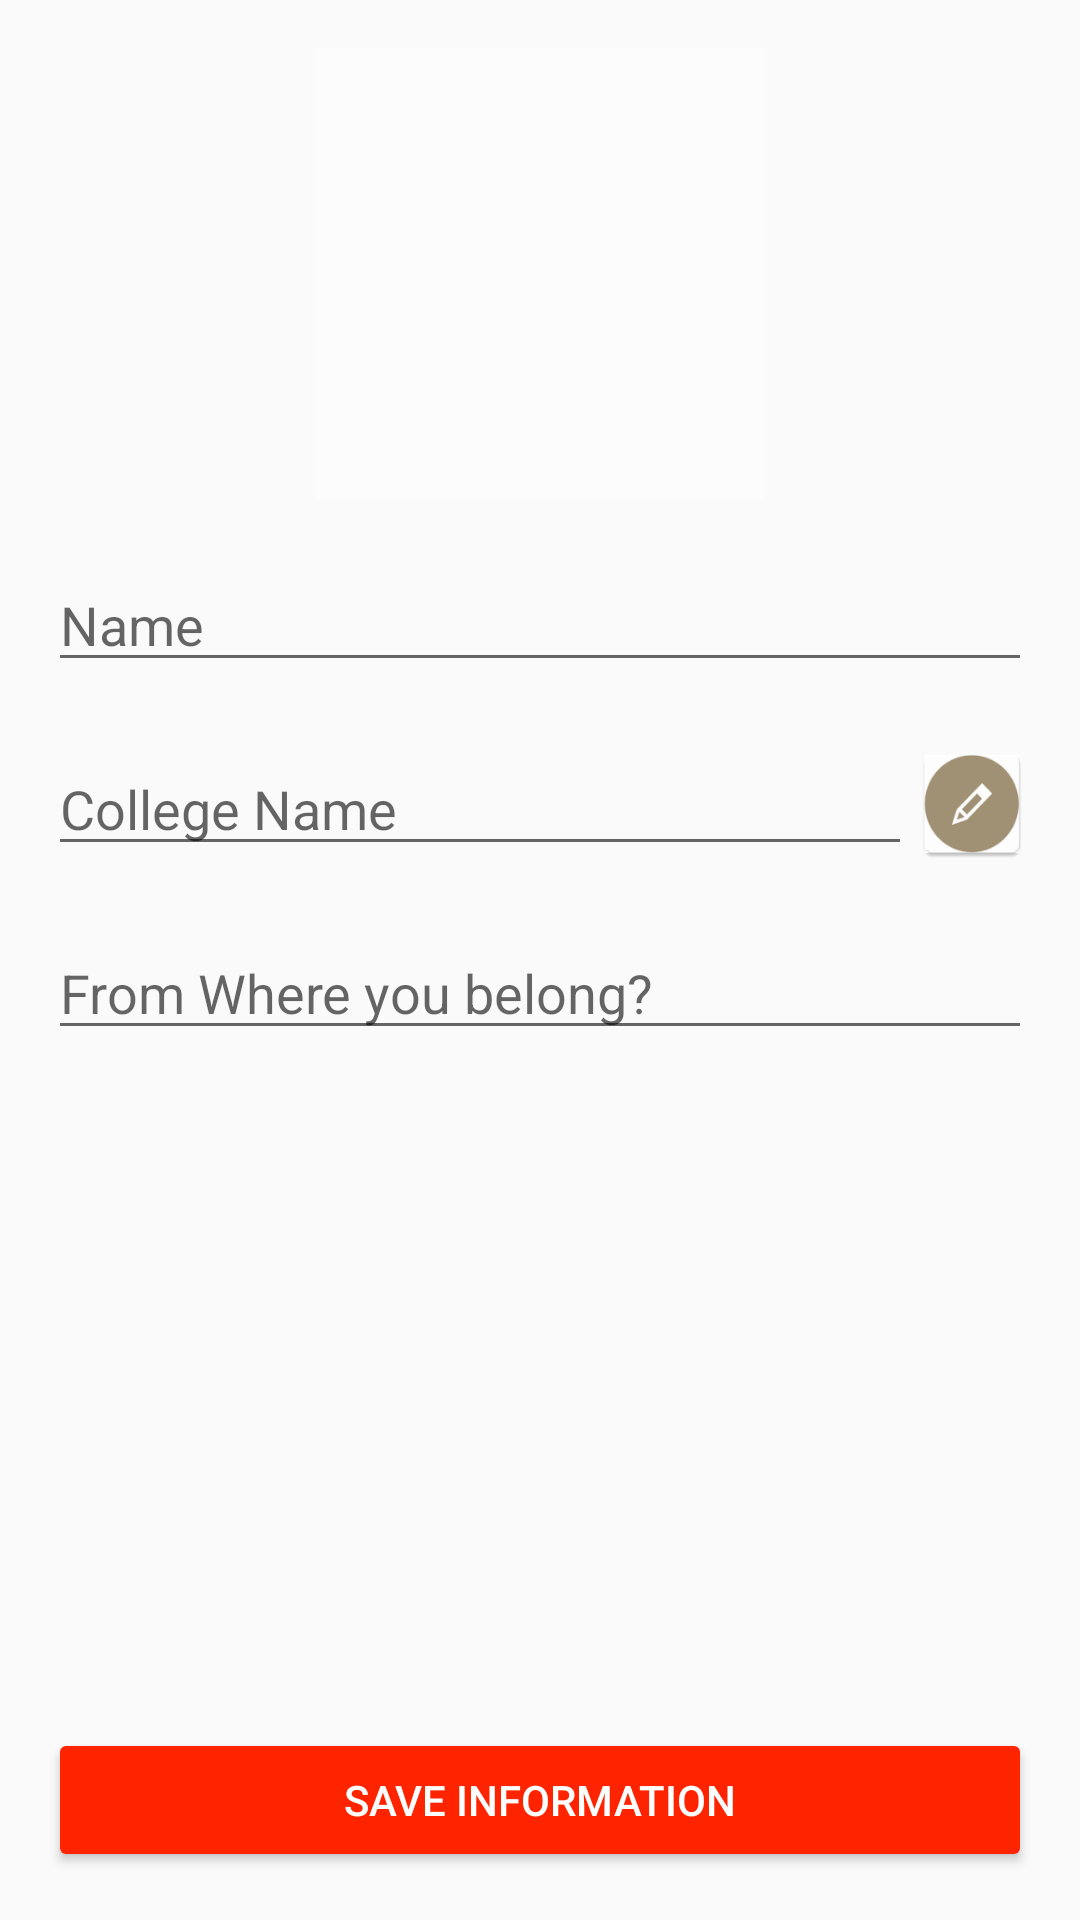

Named icons in this screenshot (1080 × 1920) and their centers, (x,y):
mod: (972,805)
